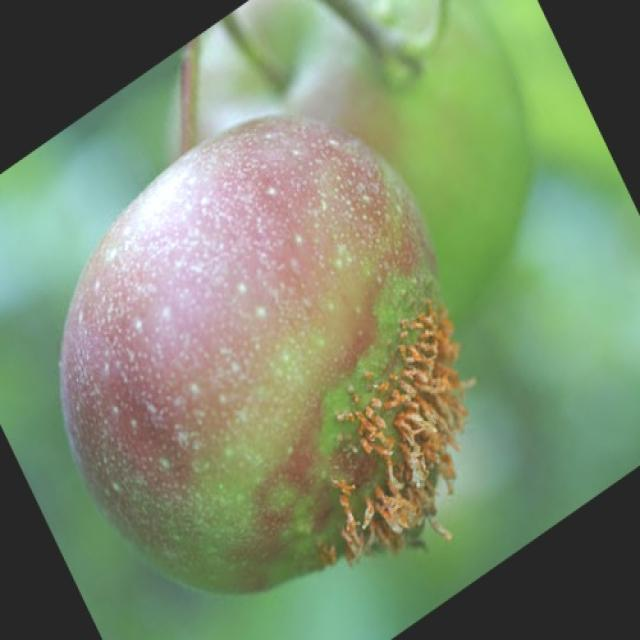Gymnosporangium_Rusts: (56, 110, 475, 595)
